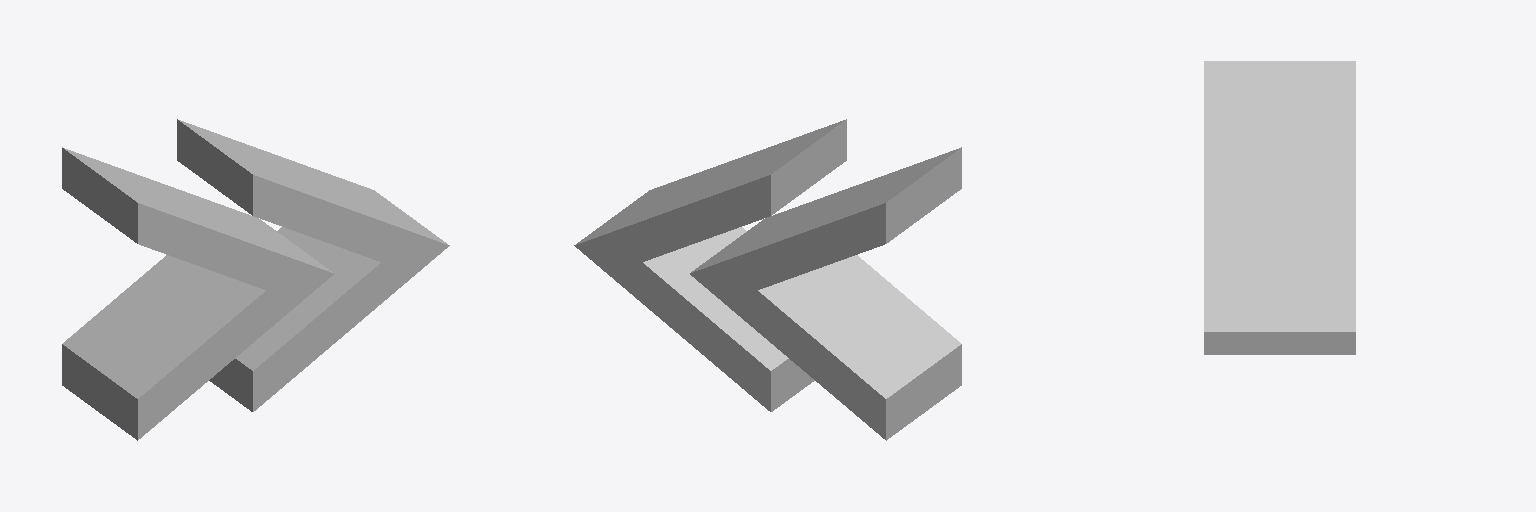
Rendered from builder-left.obj.
3 renders of one model, left to right at view 1: azimuth 30°, elevation 25°; view 2: azimuth 150°, elevation 25°; view 3: azimuth 270°, elevation 25°, orthographic.
Parts seen in each view (by area): view 1: left_Circle.003; view 2: left_Circle.003; view 3: left_Circle.003.
Boxes of the visible parts, x1=… form: left_Circle.003: x1=62, y1=119, x2=449, y2=440; left_Circle.003: x1=574, y1=119, x2=961, y2=440; left_Circle.003: x1=1204, y1=61, x2=1355, y2=354.
Size of the model in its own units: 3.74 by 2.72 by 1.57.